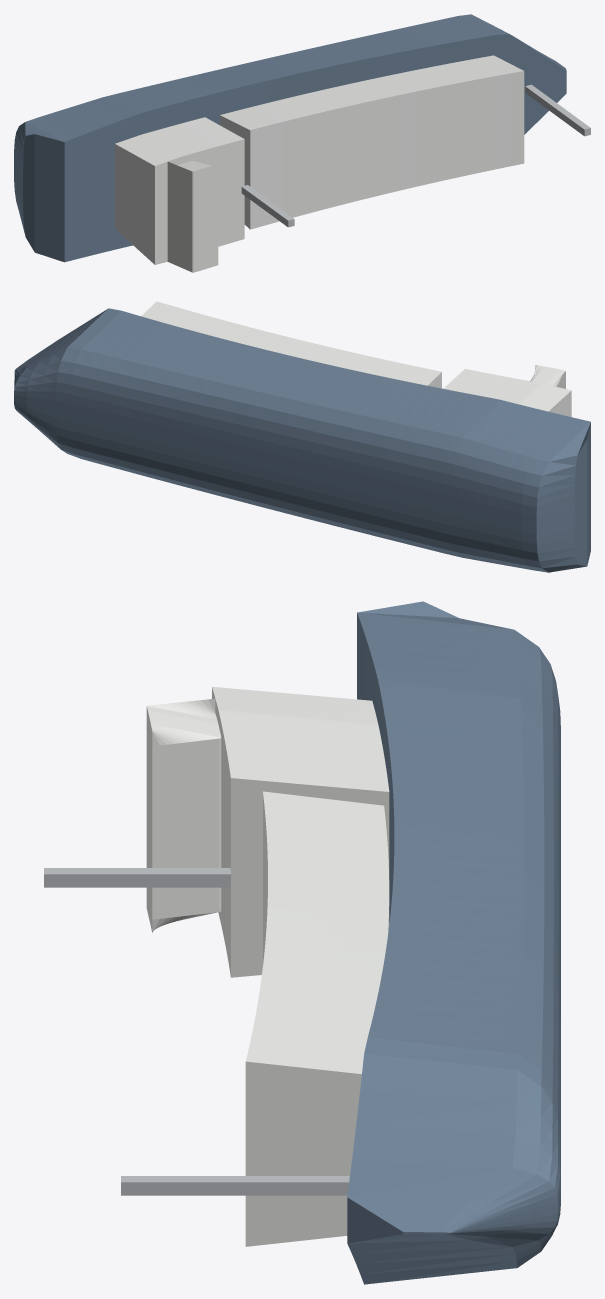
File: loft-container-ship-sheered.glb
3 views of the same model, one above another, from view 1: azimuth 30°, elevation 25°; view 2: azimuth 150°, elevation 25°; view 3: azimuth 270°, elevation 25° (orthographic). The views are drawn at different scales.
Parts seen in each view (by area): view 1: container-ship-loft-sheered; view 2: container-ship-loft-sheered; view 3: container-ship-loft-sheered.
Part boxes in pixels (left/top/right/bottom): container-ship-loft-sheered: left=14, top=14, right=590, bottom=272; container-ship-loft-sheered: left=14, top=301, right=590, bottom=572; container-ship-loft-sheered: left=44, top=601, right=560, bottom=1284.
Size of the model in its own units: 1.95 by 0.461 by 0.83.
